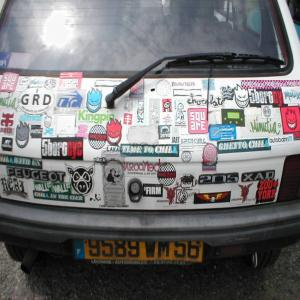Vehicle-registration-plate: (75, 238, 205, 262)
